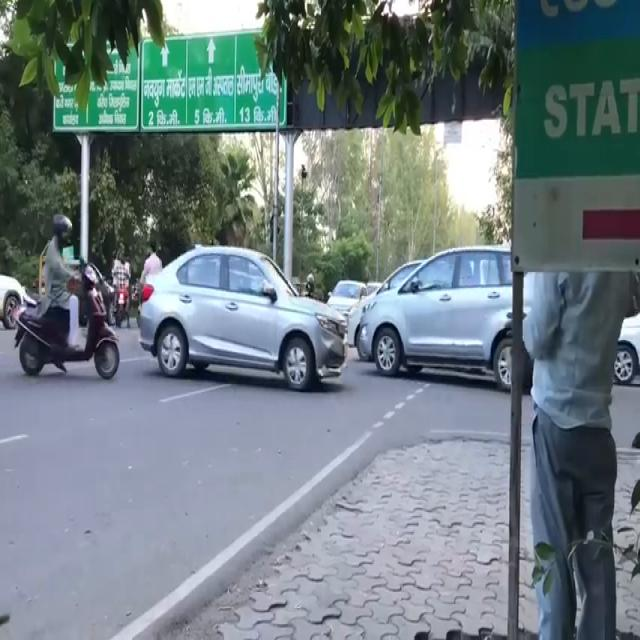MOTORCYCLE: (15, 263, 124, 377)
SED: (138, 245, 346, 383)
SUV: (362, 244, 540, 394)
